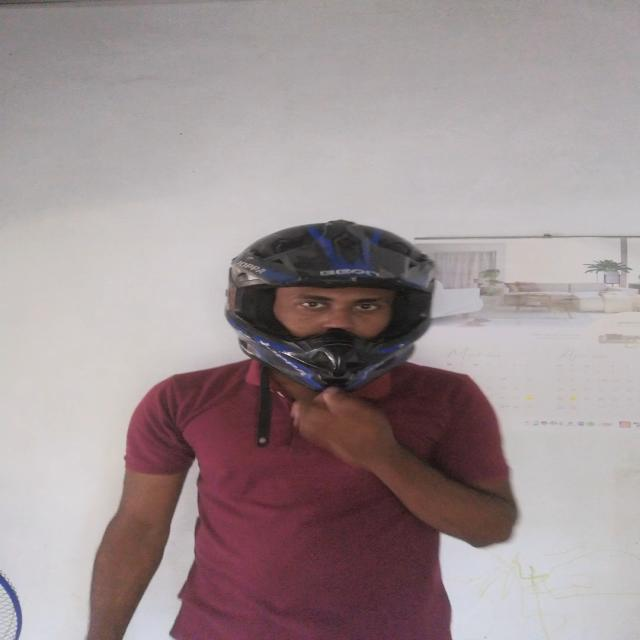Helmet_Wearer: (207, 209, 446, 410)
